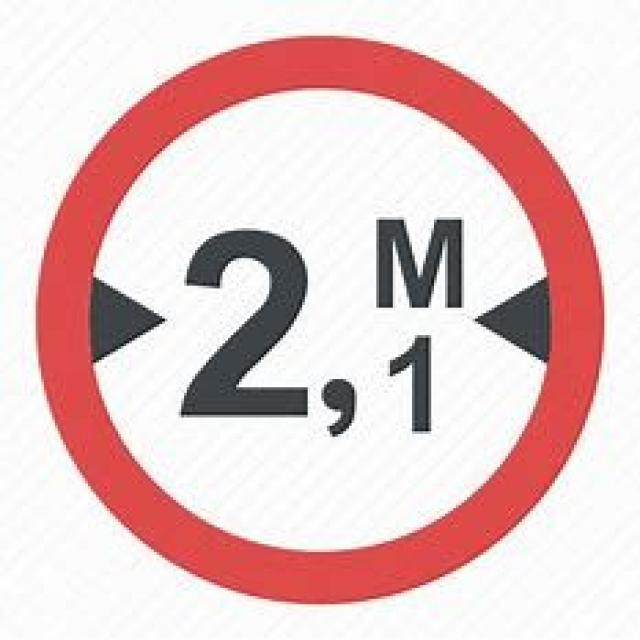WIDTH_LIMIT: (31, 30, 604, 602)
